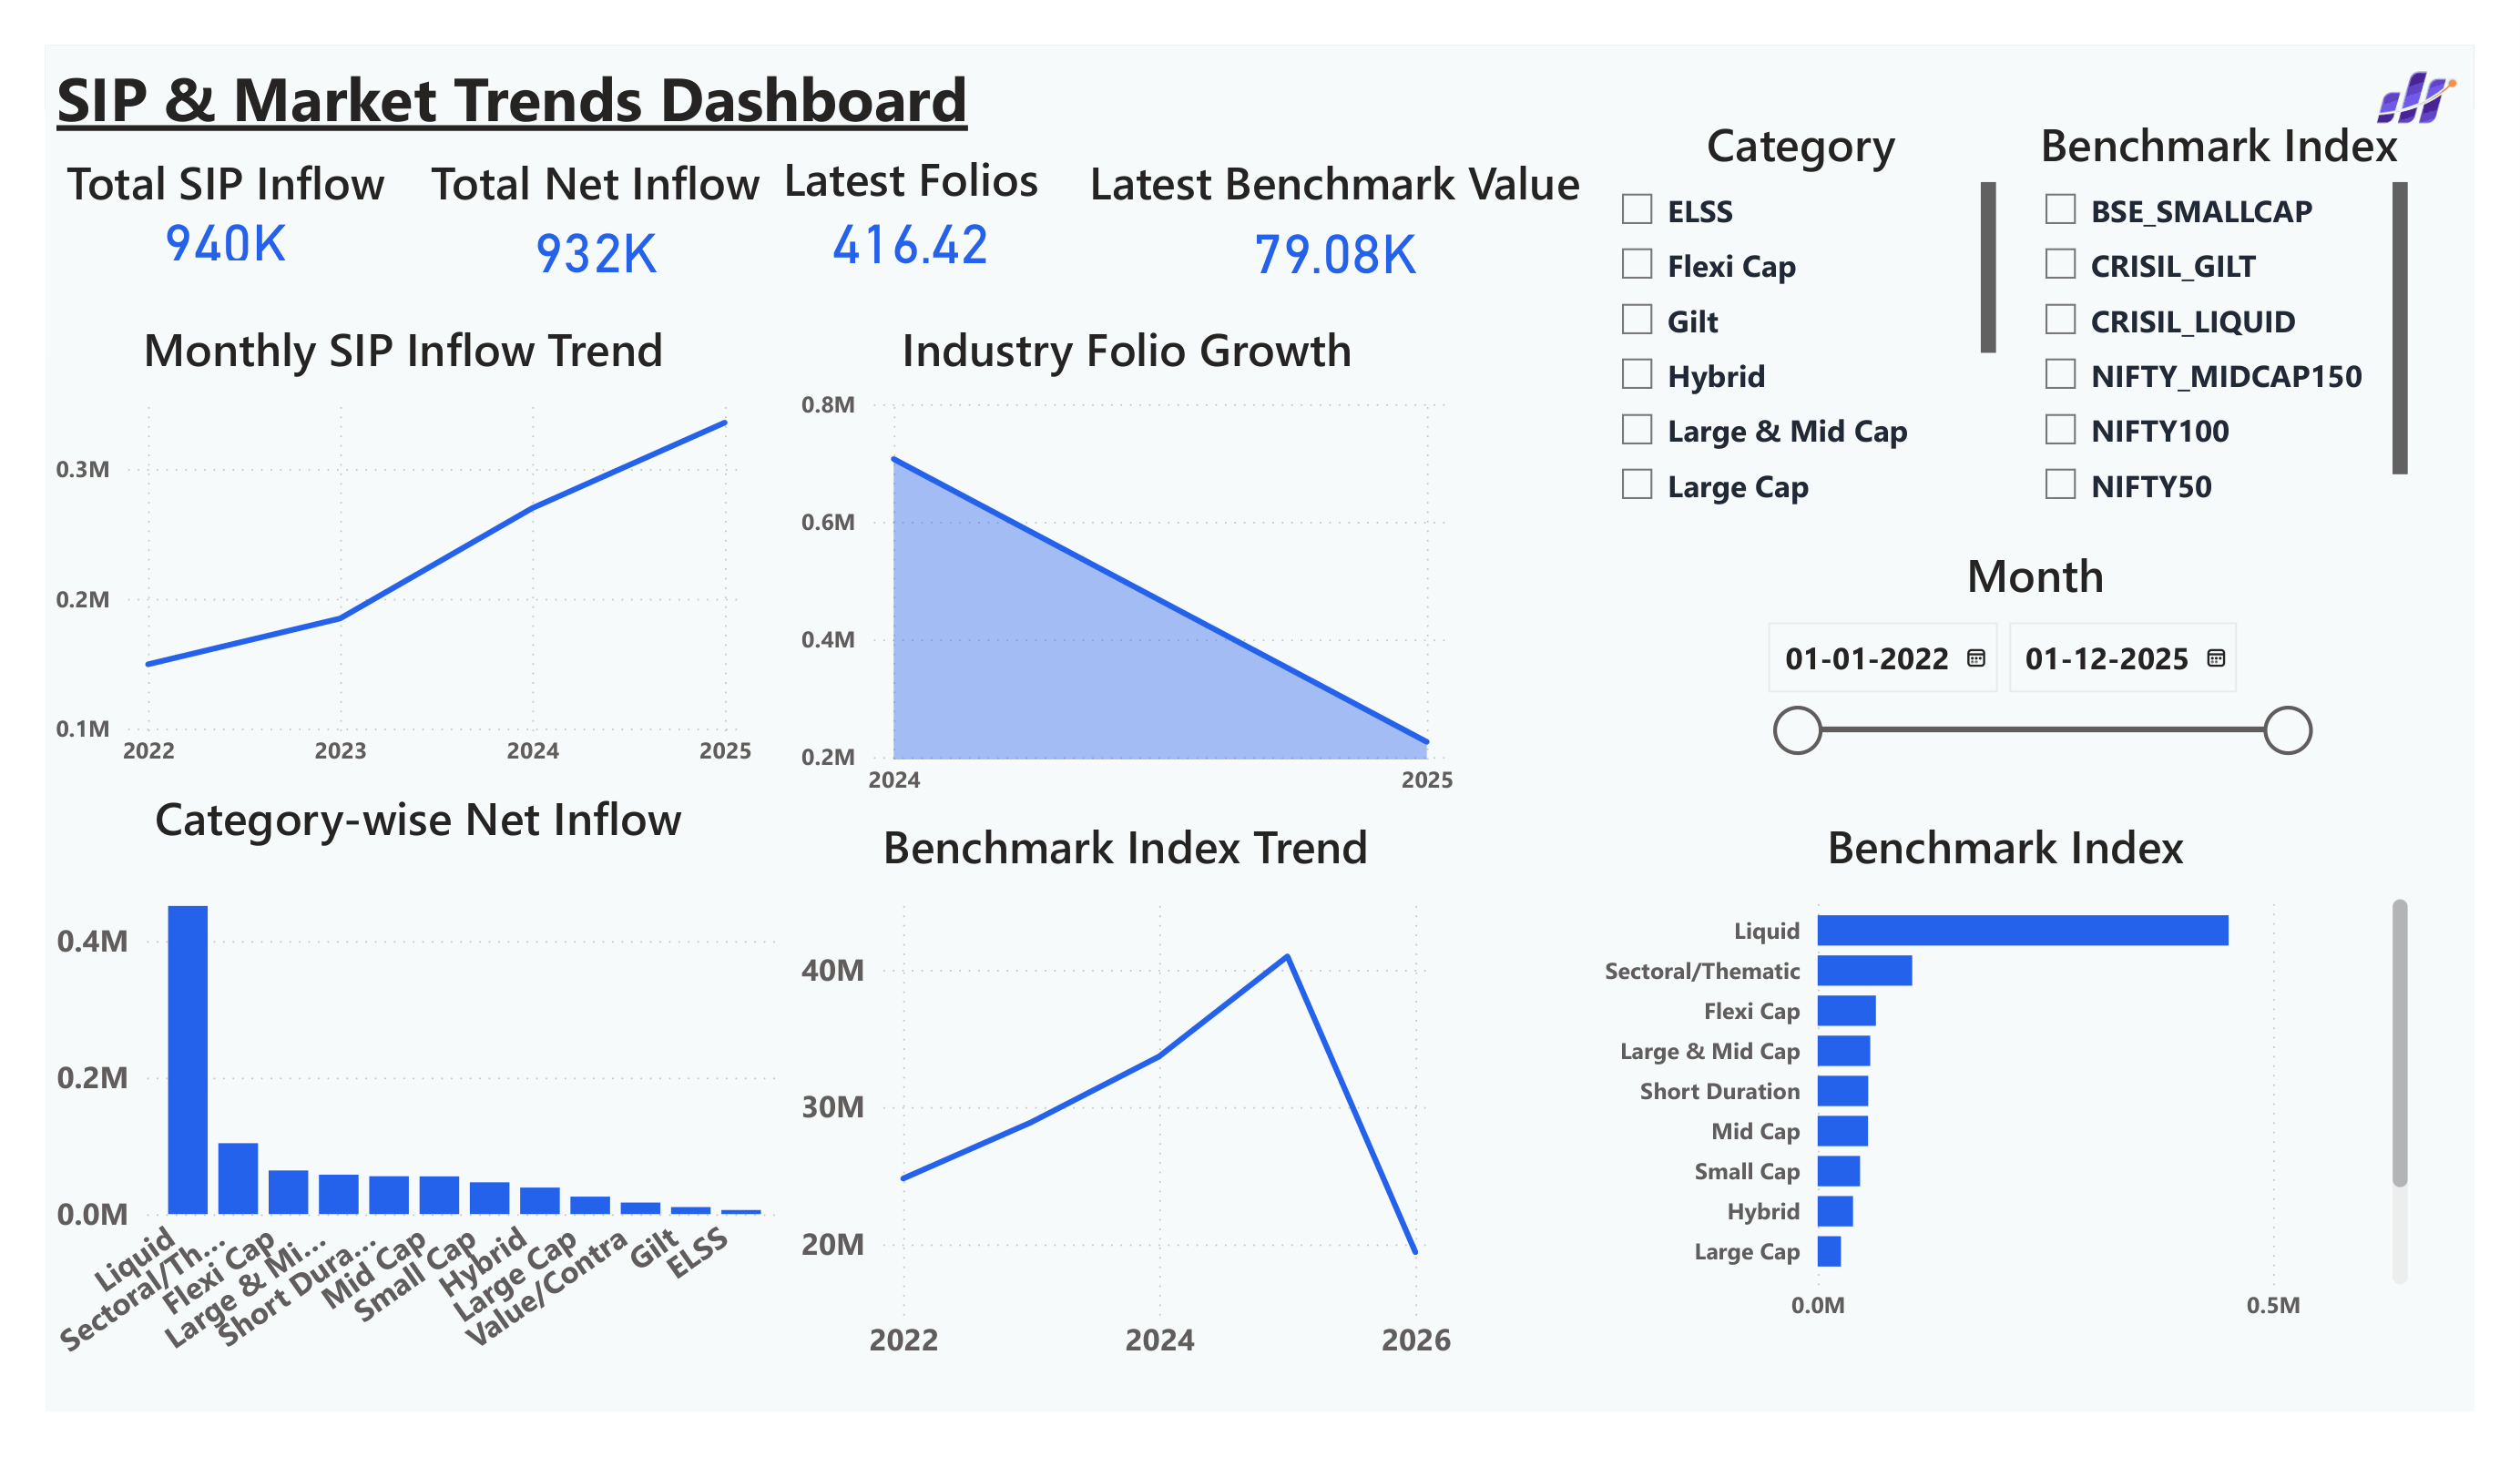

Layout of this report page (visuals, bound fields, positions):
{"tool":"powerbi","page":{"name":"SIP & Market Trends","canvas":[1280,720],"ordinal":3},"visuals":[{"type":"textbox","box":[0,0,491.7,70],"z":0},{"type":"card","title":"Total SIP Inflow","fields":{"Values":["Sum(04_monthly_sip_inflows_clean.sip_inflow_crore)"]},"box":[0,55,190,63.3],"z":1000},{"type":"card","title":"Total Net Inflow","fields":{"Values":["Sum(05_category_inflows_clean.net_inflow_crore)"]},"box":[188.3,55,203.3,73.3],"z":2000},{"type":"card","title":"Latest Folios","fields":{"Values":["Sum(06_industry_folio_count_clean.total_folios_crore)"]},"box":[376.7,53.3,158.3,66.7],"z":3000},{"type":"card","title":"Latest Benchmark Value","fields":{"Values":["Max(10_benchmark_indices_clean.close_value)"]},"box":[534.2,55.4,290.6,73.9],"z":4000},{"type":"lineChart","title":"Monthly SIP Inflow Trend","fields":{"Category":["04_monthly_sip_inflows_clean.month.Variation.Date Hierarchy.Year","04_monthly_sip_inflows_clean.month.Variation.Date Hierarchy.Quarter","04_monthly_sip_inflows_clean.month.Variation.Date Hierarchy.Month","04_monthly_sip_inflows_clean.month.Variation.Date Hierarchy.Day"],"Y":["Sum(04_monthly_sip_inflows_clean.sip_inflow_crore)"]},"box":[0,143.3,376.7,246.7],"z":5000},{"type":"clusteredColumnChart","title":"Category-wise Net Inflow","fields":{"Category":["05_category_inflows_clean.category"],"Y":["Sum(05_category_inflows_clean.net_inflow_crore)"]},"box":[0,390,393.3,313.3],"z":6000},{"type":"areaChart","title":"Industry Folio Growth","fields":{"Category":["05_category_inflows_clean.month.Variation.Date Hierarchy.Year","05_category_inflows_clean.month.Variation.Date Hierarchy.Quarter","05_category_inflows_clean.month.Variation.Date Hierarchy.Month","05_category_inflows_clean.month.Variation.Date Hierarchy.Day"],"Y":["Sum(05_category_inflows_clean.net_inflow_crore)"]},"box":[393.3,143.3,353.3,261.7],"z":7000},{"type":"lineChart","title":"Benchmark Index Trend","fields":{"Category":["10_benchmark_indices_clean.date.Variation.Date Hierarchy.Year","10_benchmark_indices_clean.date.Variation.Date Hierarchy.Quarter","10_benchmark_indices_clean.date.Variation.Date Hierarchy.Month","10_benchmark_indices_clean.date.Variation.Date Hierarchy.Day"],"Y":["Sum(10_benchmark_indices_clean.close_value)"]},"box":[393,405,353,298],"z":8000},{"type":"slicer","title":"Month","fields":{"Values":["04_monthly_sip_inflows_clean.month"]},"box":[895.3,262,307.4,142.8],"z":9000},{"type":"slicer","title":"Category","fields":{"Values":["05_category_inflows_clean.category"]},"box":[818.1,35.3,215,218.4],"z":10000},{"type":"slicer","title":"Benchmark Index","fields":{"Values":["10_benchmark_indices_clean.index_name"]},"box":[1041.5,35.3,208.3,218.4],"z":11000},{"type":"barChart","title":"Benchmark Index","fields":{"Category":["05_category_inflows_clean.category"],"Y":["Sum(05_category_inflows_clean.net_inflow_crore)"]},"box":[816.4,404.8,433.4,277.2],"z":12000},{"type":"image","box":[1217.8,0,62.2,55.4],"z":12001}]}

Visuals, with their boxes on the page's 1280x720 design canvas (x1, y1, x2, y2). These are canvas units, not pixel positions in the 2520x1457 screenshot, which may show the page scaled, cropped or inside an application window:
textbox: [0,0,492,70]
"Total SIP Inflow" card: [0,55,190,118]
"Total Net Inflow" card: [188,55,392,128]
"Latest Folios" card: [377,53,535,120]
"Latest Benchmark Value" card: [534,55,825,129]
"Monthly SIP Inflow Trend" lineChart: [0,143,377,390]
"Category-wise Net Inflow" clusteredColumnChart: [0,390,393,703]
"Industry Folio Growth" areaChart: [393,143,747,405]
"Benchmark Index Trend" lineChart: [393,405,746,703]
"Month" slicer: [895,262,1203,405]
"Category" slicer: [818,35,1033,254]
"Benchmark Index" slicer: [1042,35,1250,254]
"Benchmark Index" barChart: [816,405,1250,682]
image: [1218,0,1280,55]
